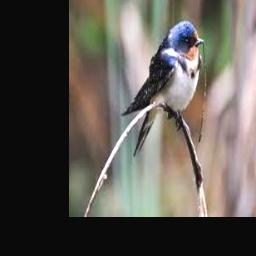Swallow: (121, 22, 204, 156)
